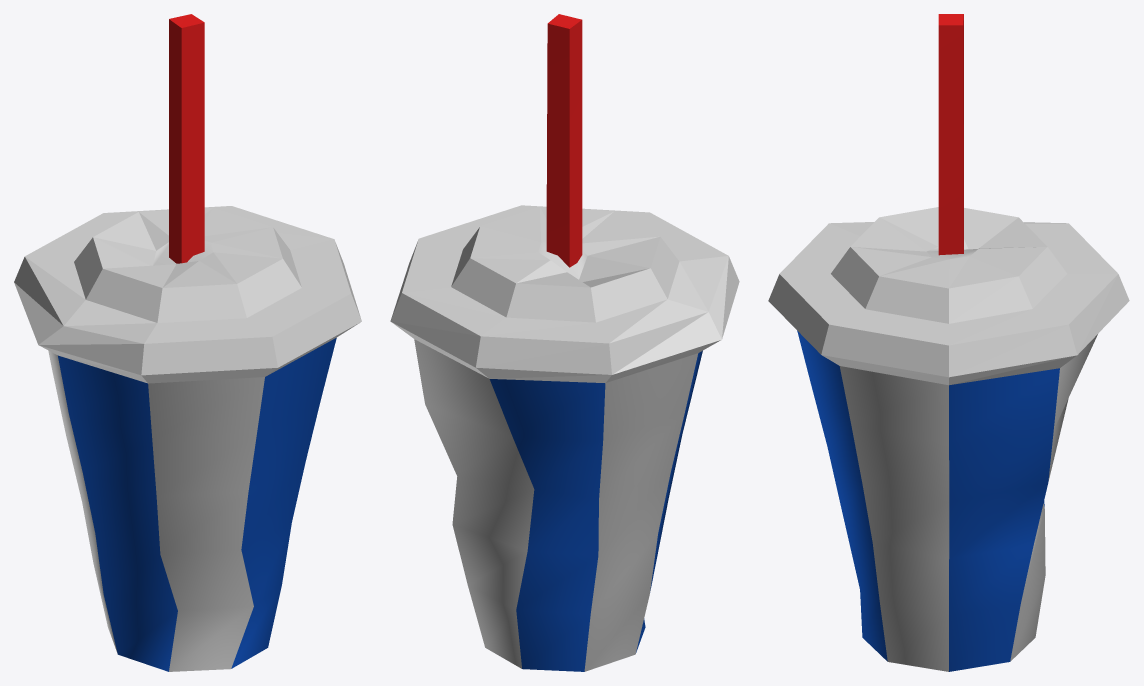
The model's file is BebidaItemFinal.FBX.
3 renders of one model, left to right at view 1: azimuth 30°, elevation 25°; view 2: azimuth 150°, elevation 25°; view 3: azimuth 270°, elevation 25°, orthographic.
Visible parts, largest first — view 1: Box001; view 2: Box001; view 3: Box001.
Boxes of the visible parts, left/top/right/bottom form: Box001: left=14, top=14, right=361, bottom=671; Box001: left=390, top=14, right=739, bottom=671; Box001: left=768, top=14, right=1129, bottom=671.
Bounding box in the file's own units: 17.17 × 32.71 × 17.34.
